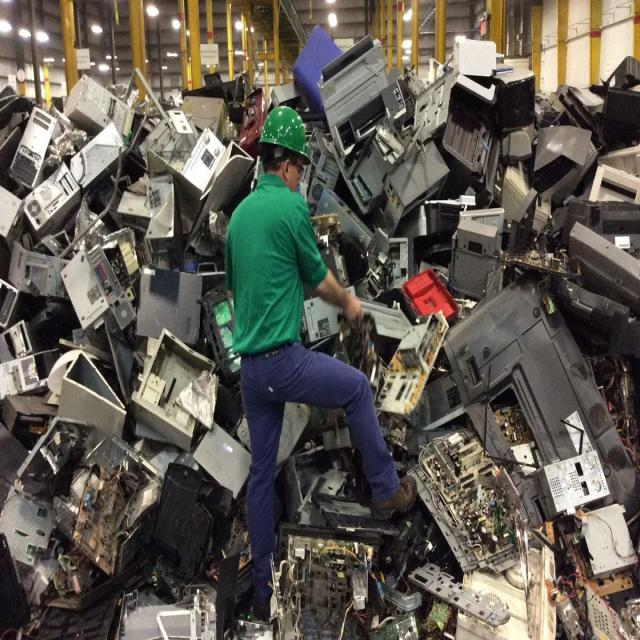hazard: (2, 70, 640, 640)
